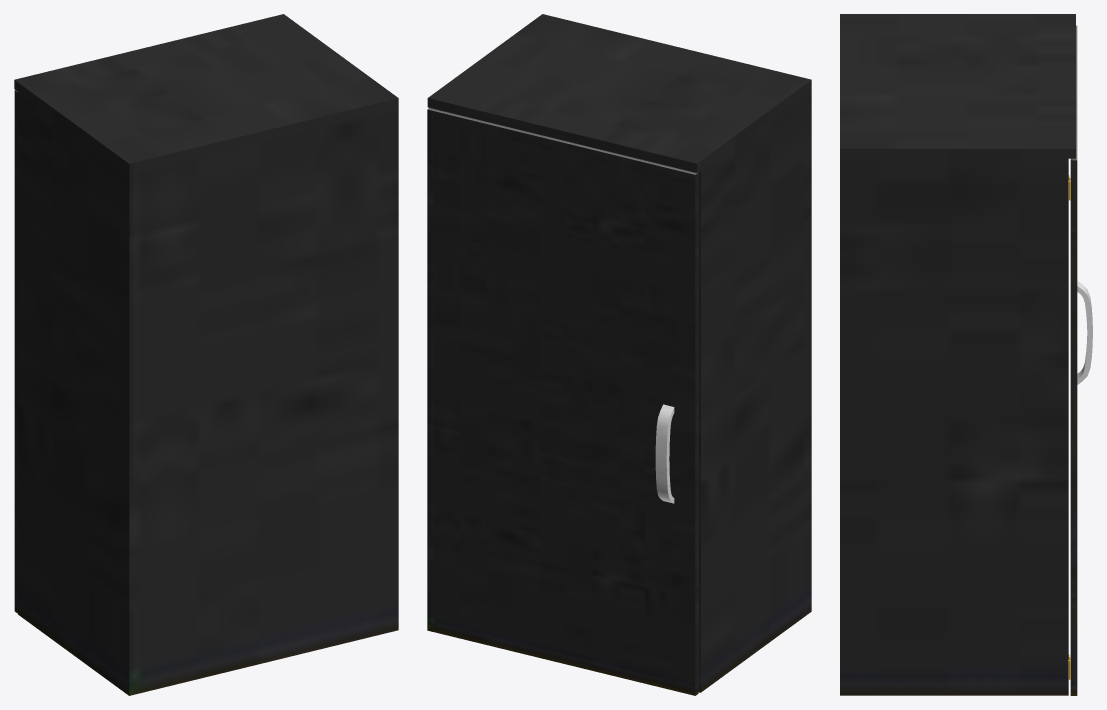
The model's file is Closet48.glb.
3 views of the same model, side by side, from view 1: azimuth 30°, elevation 25°; view 2: azimuth 150°, elevation 25°; view 3: azimuth 270°, elevation 25° (orthographic). The views are drawn at different scales.
Parts seen in each view (by area): view 1: Closet48_model, Closet48Door; view 2: Closet48Door, Closet48_model; view 3: Closet48_model, Closet48Door.
Part boxes in pixels (<box>): Closet48_model: <box>14,14,398,695</box>; Closet48Door: <box>14,90,17,613</box>; Closet48Door: <box>427,108,698,695</box>; Closet48_model: <box>427,14,811,692</box>; Closet48_model: <box>840,14,1075,695</box>; Closet48Door: <box>1068,25,1092,695</box>.
Bounding box in the file's own units: 1.38 × 2.58 × 1.08.
Materials: 1 (1 with a texture image).
